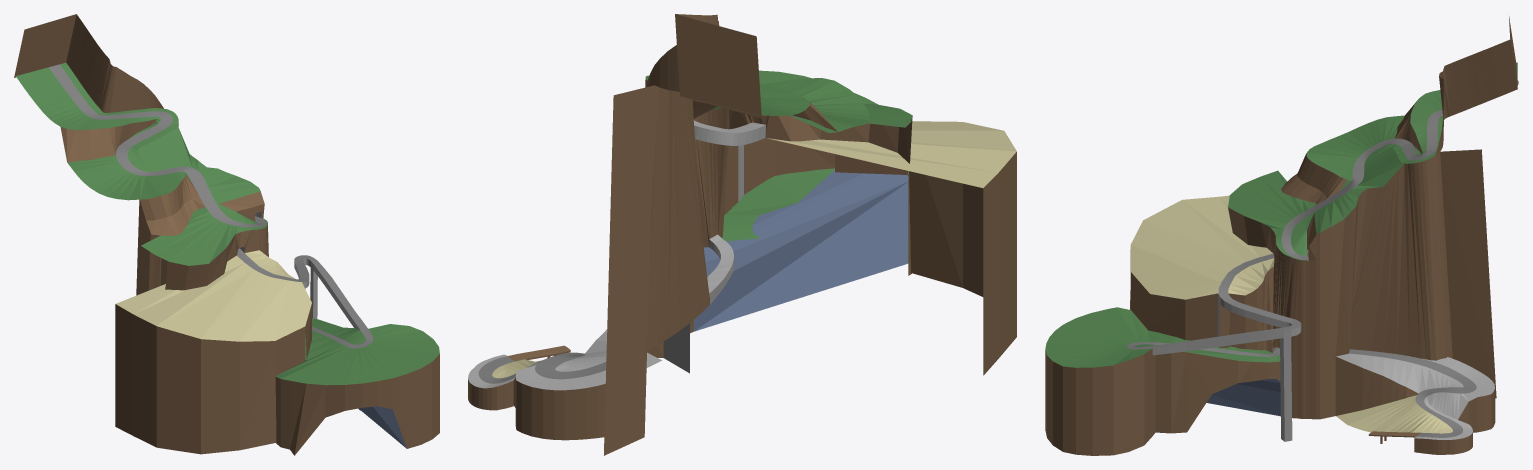
File: CompleteTrack.fbx
3 renders of one model, left to right at view 1: azimuth 30°, elevation 25°; view 2: azimuth 150°, elevation 25°; view 3: azimuth 270°, elevation 25°, orthographic. The views are drawn at different scales.
Visible parts, largest first — view 1: Scene, Track; view 2: Scene, Track; view 3: Scene, Track.
Boxes of the visible parts, x1,y1,x2,y2 form: Scene: (14,14,439,455); Track: (49,64,373,348); Scene: (468,14,1016,455); Track: (478,100,709,383); Scene: (1045,16,1517,455); Track: (1127,80,1518,437).
Size of what is drawn, in the model's own units: 39.12 by 46.73 by 60.53.
